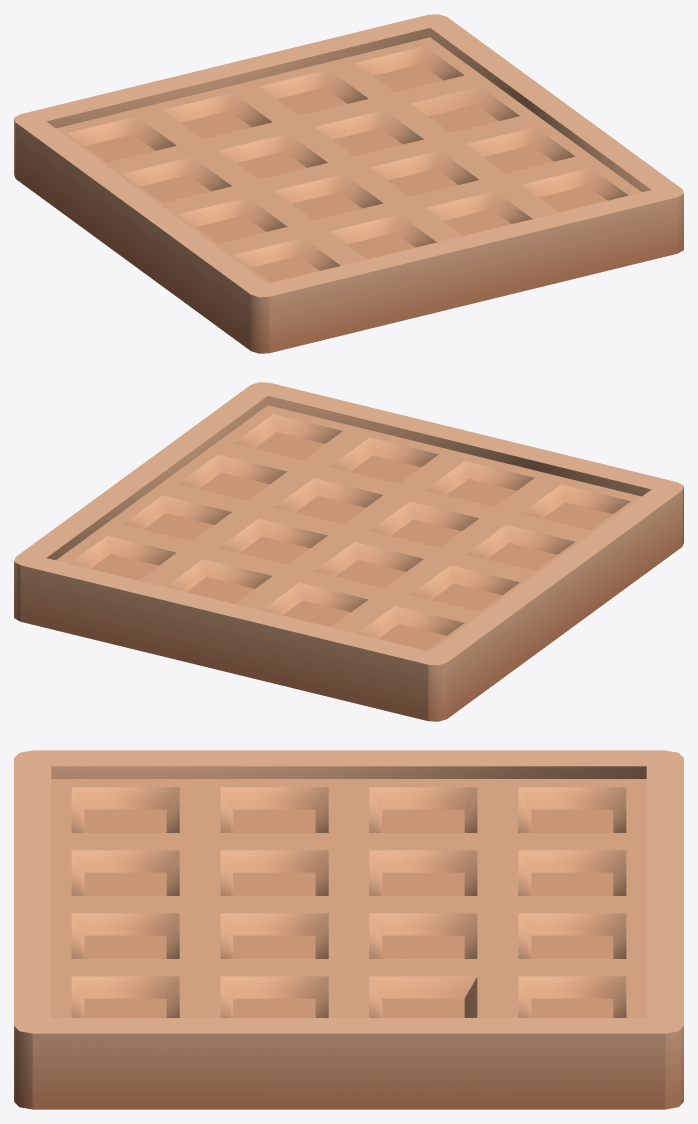
The model's file is waffle.glb.
The picture shows the model from 3 angles, top to bottom: view 1: azimuth 30°, elevation 25°; view 2: azimuth 150°, elevation 25°; view 3: azimuth 270°, elevation 25°; orthographic projection. The views are drawn at different scales.
Parts seen in each view (by area): view 1: waffle; view 2: waffle; view 3: waffle.
Boxes of the visible parts, bbox=[...] form: waffle: bbox=[14, 14, 683, 353]; waffle: bbox=[14, 382, 683, 721]; waffle: bbox=[14, 750, 683, 1109].
Size of the model in its own units: 0.3204 by 0.04 by 0.3204.
Materials: 1 (1 with a texture image).
